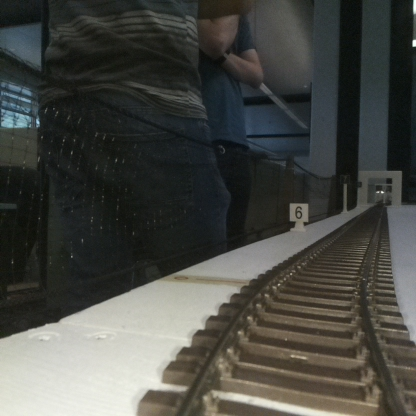black-info-7: (341, 173, 350, 214)
white-stop-6: (289, 203, 308, 230)
